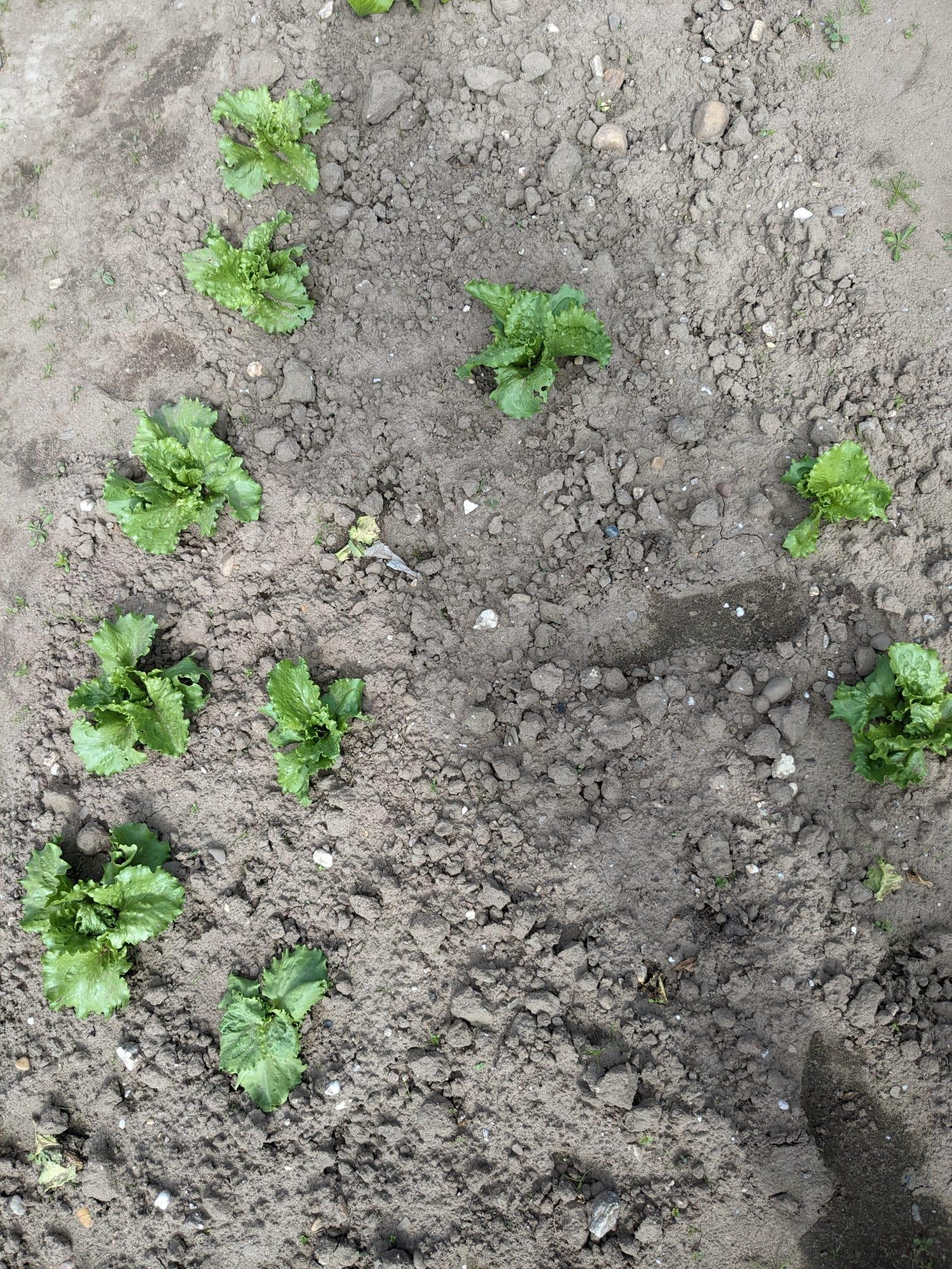Healthy: (18, 825, 183, 1019), (101, 396, 259, 554), (67, 613, 210, 776), (455, 279, 612, 418), (218, 947, 326, 1114), (832, 643, 952, 788), (181, 210, 313, 332), (259, 657, 365, 807), (210, 78, 332, 197), (783, 441, 893, 557)
